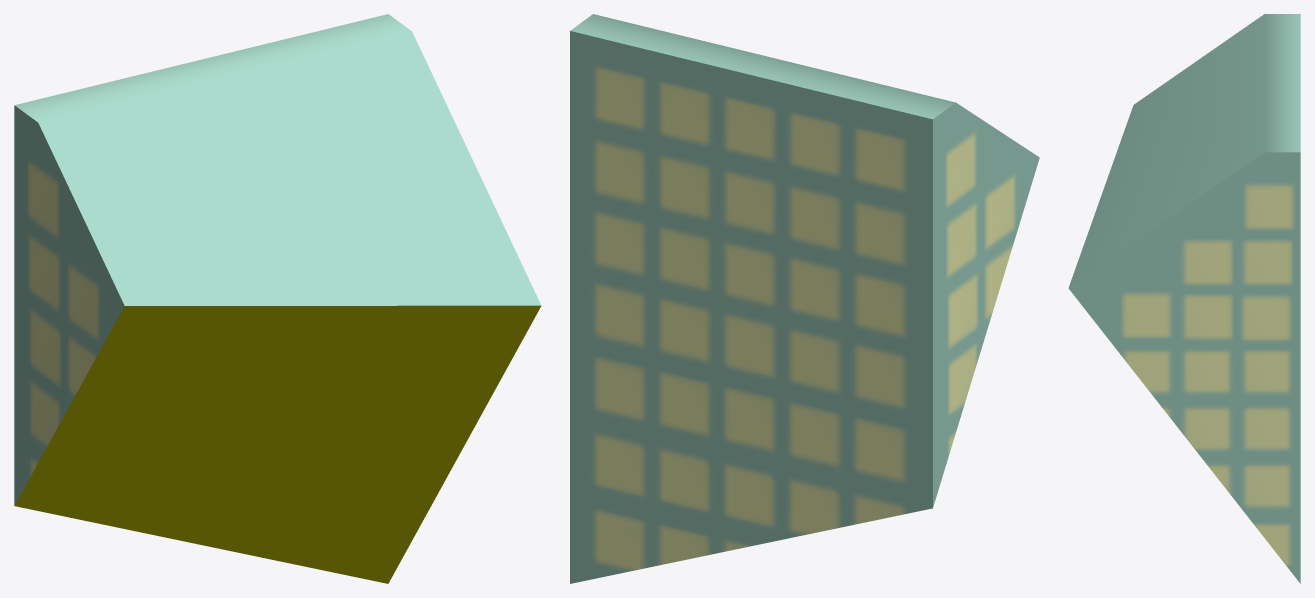
File: c1Shard1.fbx
The picture shows the model from 3 angles, left to right: view 1: azimuth 30°, elevation 25°; view 2: azimuth 150°, elevation 25°; view 3: azimuth 270°, elevation 25°; orthographic projection. The views are drawn at different scales.
Visible parts, largest first — view 1: shard51; view 2: shard51; view 3: shard51.
Part boxes in pixels (bbox=[...]): shard51: bbox=[14, 14, 541, 583]; shard51: bbox=[570, 14, 1039, 583]; shard51: bbox=[1068, 14, 1300, 583].
Bounding box in the file's own units: 0.0917 × 0.1335 × 0.0651.
Materials: 2 (1 with a texture image).
